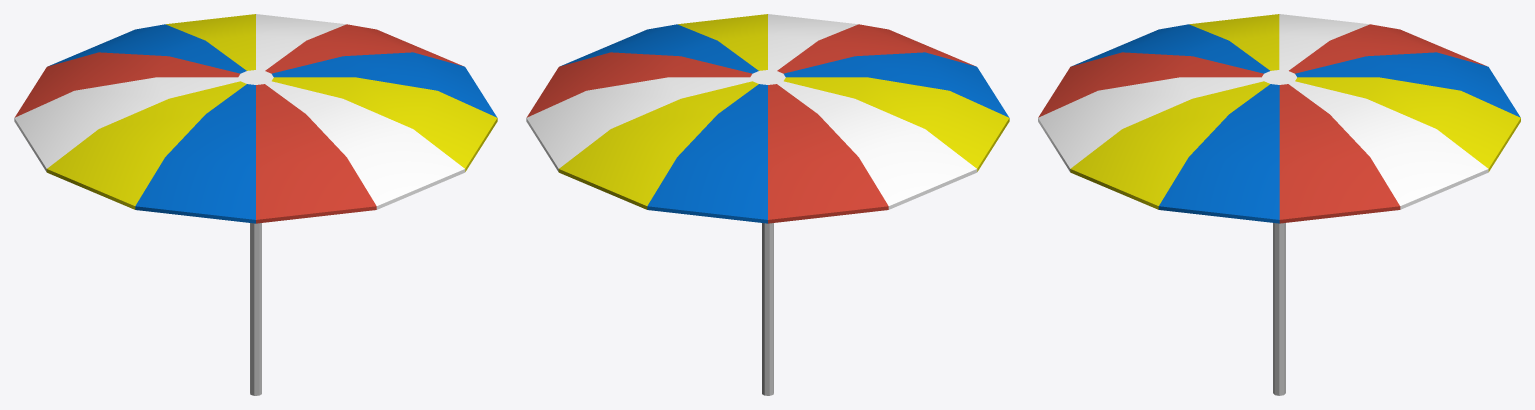
Rendered from Umbrella.fbx.
3 views of the same model, side by side, from view 1: azimuth 30°, elevation 25°; view 2: azimuth 150°, elevation 25°; view 3: azimuth 270°, elevation 25° (orthographic).
Parts seen in each view (by area): view 1: Umbrella; view 2: Umbrella; view 3: Umbrella.
Part boxes in pixels (box(x1,y1,x2,y2)): Umbrella: box(14, 14, 497, 395); Umbrella: box(526, 14, 1009, 395); Umbrella: box(1038, 14, 1520, 395).
Bounding box in the file's own units: 4.97 × 3.59 × 4.97.
